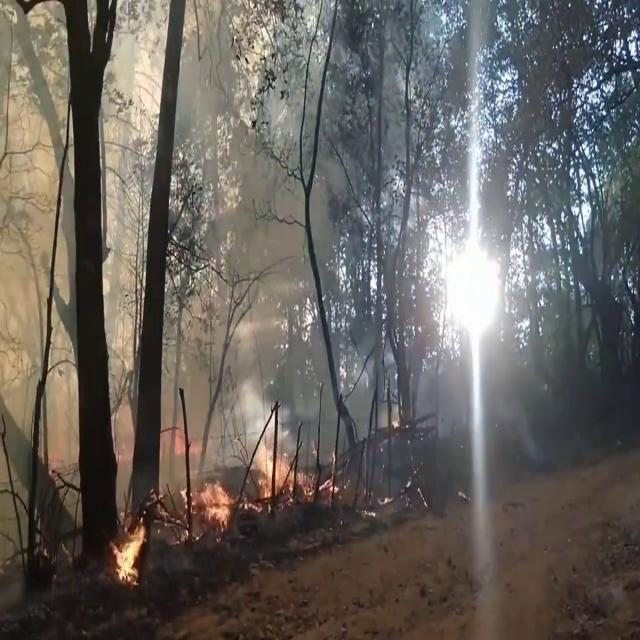Fire: (185, 434, 334, 532), (109, 513, 149, 588)
Smoke: (138, 5, 368, 480)
